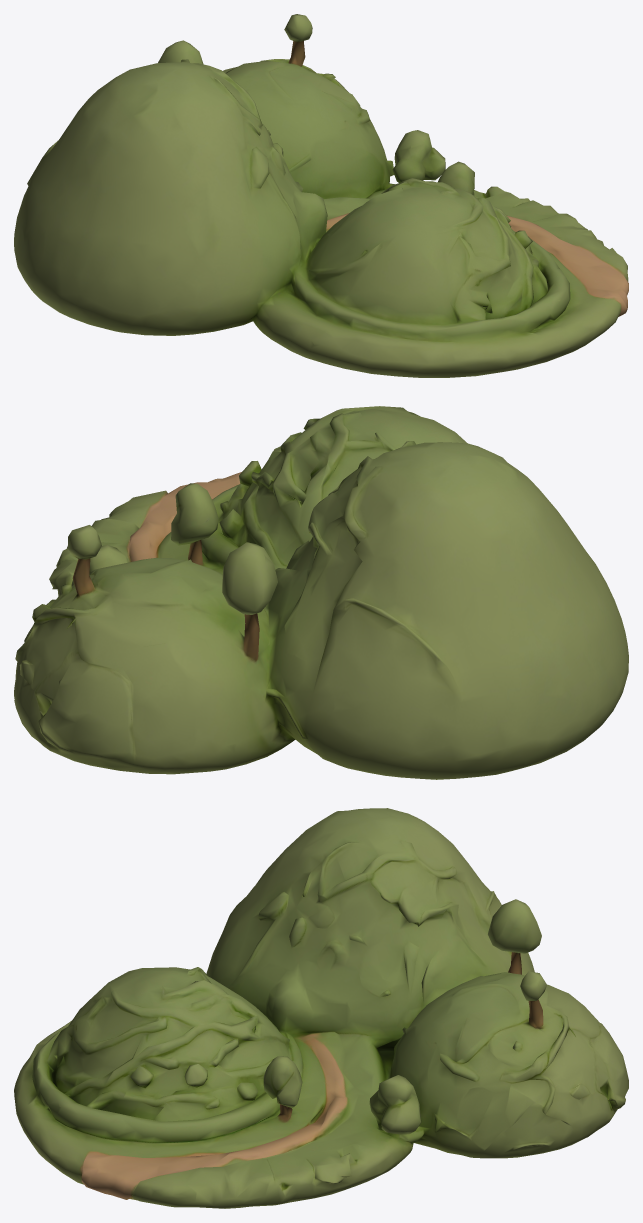
Rendered from map_hills.glb.
The picture shows the model from 3 angles, top to bottom: view 1: azimuth 30°, elevation 25°; view 2: azimuth 150°, elevation 25°; view 3: azimuth 270°, elevation 25°; orthographic projection. The views are drawn at different scales.
Visible parts, largest first — view 1: tripo_node_b3a832d8-638b-41e7-9610-1b271cd3f2a2; view 2: tripo_node_b3a832d8-638b-41e7-9610-1b271cd3f2a2; view 3: tripo_node_b3a832d8-638b-41e7-9610-1b271cd3f2a2.
Part boxes in pixels (bbox=[...]): tripo_node_b3a832d8-638b-41e7-9610-1b271cd3f2a2: bbox=[14, 14, 628, 377]; tripo_node_b3a832d8-638b-41e7-9610-1b271cd3f2a2: bbox=[14, 406, 628, 779]; tripo_node_b3a832d8-638b-41e7-9610-1b271cd3f2a2: bbox=[14, 808, 628, 1208].
Size of the model in its own units: 0.9222 by 0.4008 by 1.
Materials: 1 (1 with a texture image).
